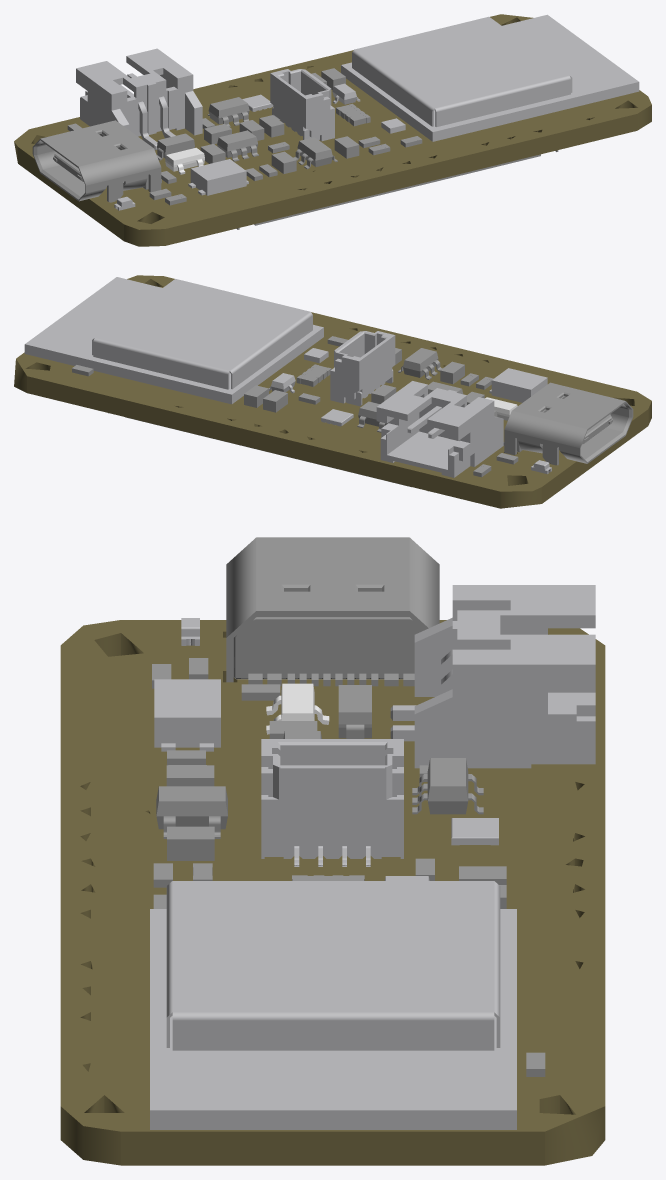
File: ada-5345.glb
The picture shows the model from 3 angles, top to bottom: view 1: azimuth 30°, elevation 25°; view 2: azimuth 150°, elevation 25°; view 3: azimuth 270°, elevation 25°; orthographic projection. The views are drawn at different scales.
Parts seen in each view (by area): view 1: 0.5833333333333334_0.5833333333333334_0.5833333333333334_0.8, 0.16666666666666666_0.16666666666666666_0.08333333333333333_, 0.3333333333333333_0.3333333333333333_0.3333333333333333_0, 0.9166666666666666_0.9166666666666666_0.9166666666666666_0.8; view 2: 0.5833333333333334_0.5833333333333334_0.5833333333333334_0.8, 0.16666666666666666_0.16666666666666666_0.08333333333333333_, 0.3333333333333333_0.3333333333333333_0.3333333333333333_0; view 3: 0.5833333333333334_0.5833333333333334_0.5833333333333334_0.8, 0.16666666666666666_0.16666666666666666_0.08333333333333333_, 0.3333333333333333_0.3333333333333333_0.3333333333333333_0, 0.9166666666666666_0.9166666666666666_0.9166666666666666_0.8.
Boxes of the visible parts, x1,y1,x2,y2 form: 0.5833333333333334_0.5833333333333334_0.5833333333333334_0.8: (55, 14, 639, 210); 0.16666666666666666_0.16666666666666666_0.08333333333333333_: (14, 14, 651, 246); 0.3333333333333333_0.3333333333333333_0.3333333333333333_0: (32, 68, 558, 229); 0.9166666666666666_0.9166666666666666_0.9166666666666666_0.8: (165, 147, 204, 174); 0.5833333333333334_0.5833333333333334_0.5833333333333334_0.8: (24, 277, 610, 477); 0.16666666666666666_0.16666666666666666_0.08333333333333333_: (14, 275, 651, 508); 0.3333333333333333_0.3333333333333333_0.3333333333333333_0: (72, 336, 633, 491); 0.5833333333333334_0.5833333333333334_0.5833333333333334_0.8: (150, 585, 595, 1129); 0.16666666666666666_0.16666666666666666_0.08333333333333333_: (60, 620, 605, 1165); 0.3333333333333333_0.3333333333333333_0.3333333333333333_0: (152, 537, 545, 1076); 0.9166666666666666_0.9166666666666666_0.9166666666666666_0.8: (266, 683, 329, 734).
Bounding box in the file's own units: 5.19 × 0.7894 × 2.29.
